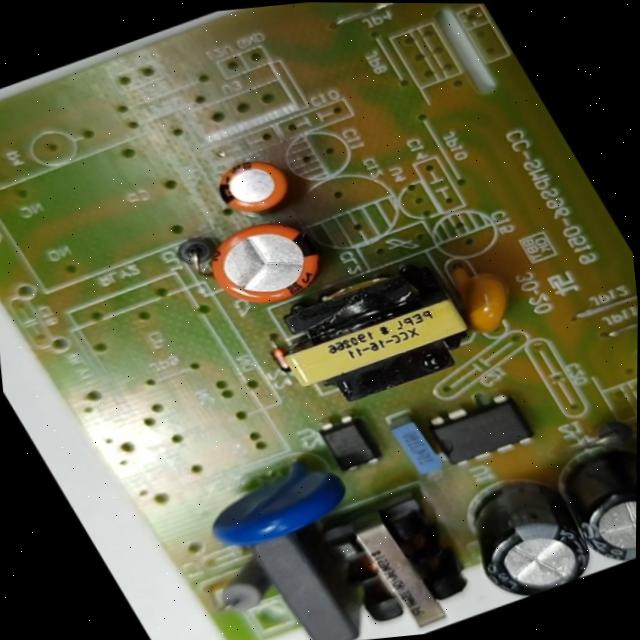Cap1: (184, 200, 351, 330)
Cap2: (196, 138, 314, 231)
Cap3: (431, 457, 610, 613)
Cap4: (531, 427, 637, 577)
MOSFET: (410, 380, 549, 480)
Mov: (176, 434, 370, 564)
Resistor: (194, 550, 293, 625)
Transformer: (245, 239, 501, 426), (290, 469, 504, 640)
